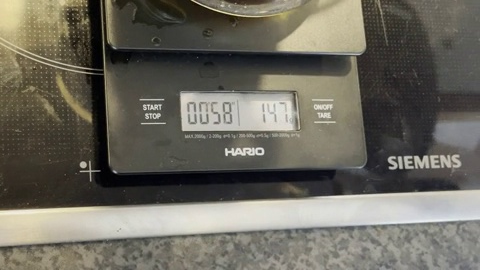display: (180, 91, 297, 129)
